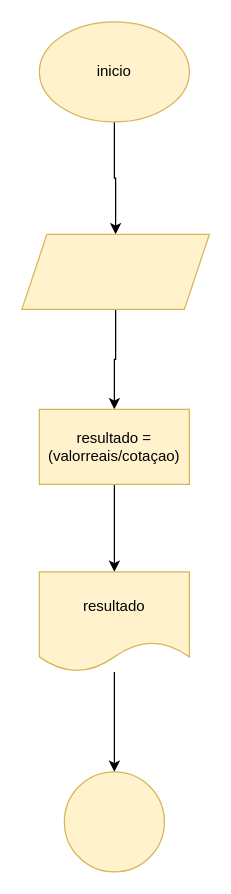
Image size: 231x894. Some labels were removed from this diagram. The shapes that lost their labels are listed below. From the top down, each one's centre as x and y in pixels, then its label:
At pixel 115 271: "cotaçao, valorreais".
At pixel 113 821: "fim".
